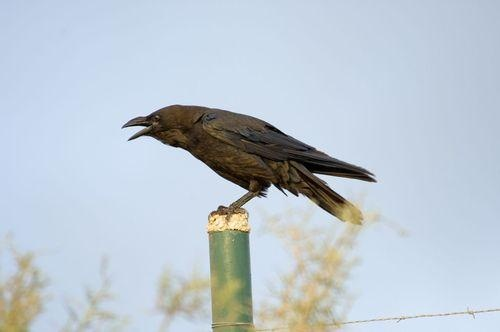bird: (116, 102, 380, 233)
